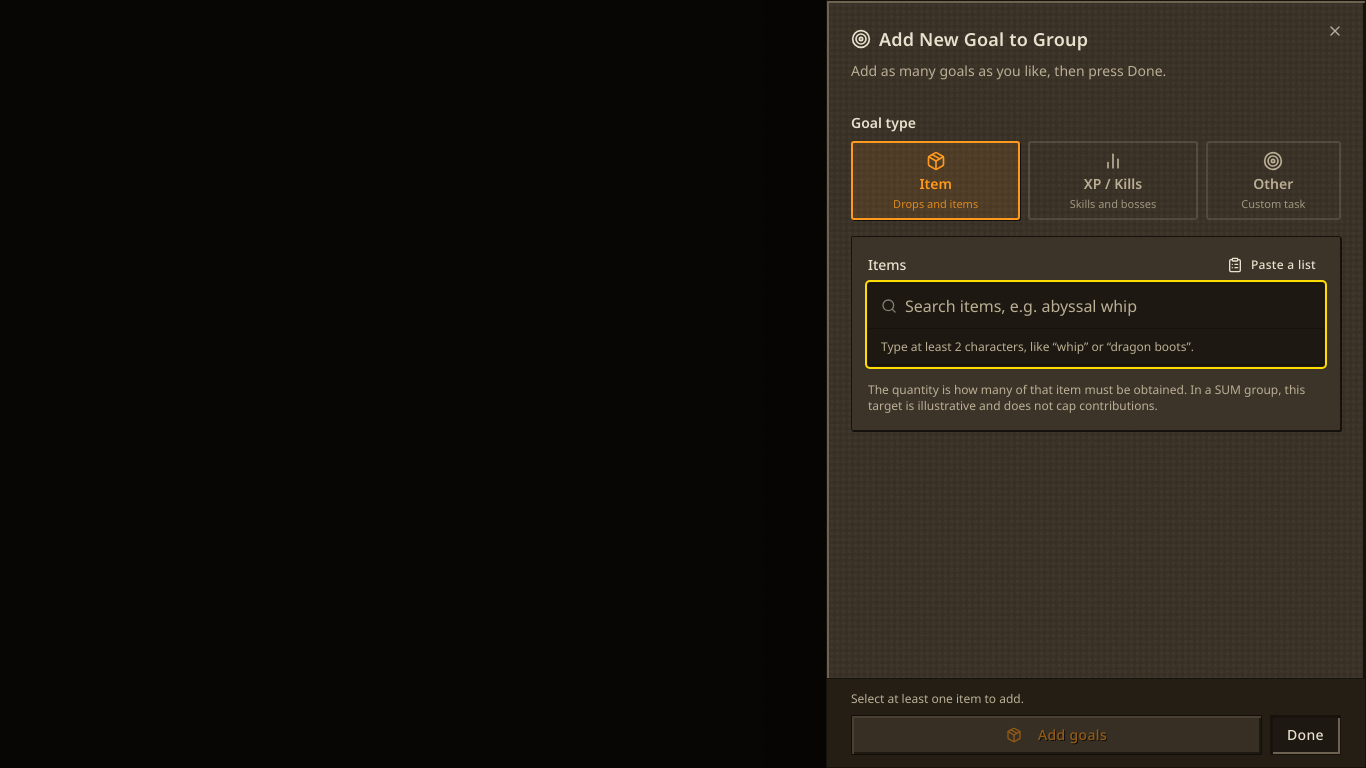
it: AddGoalDrawer › adding several goals in a row › keeps the drawer open and the type, clears the fields and lists what was added
This screenshot has width=1366, height=768.
Click the radio button labelled "Other": coordinates (1273, 181) [1206,141,1341,220]
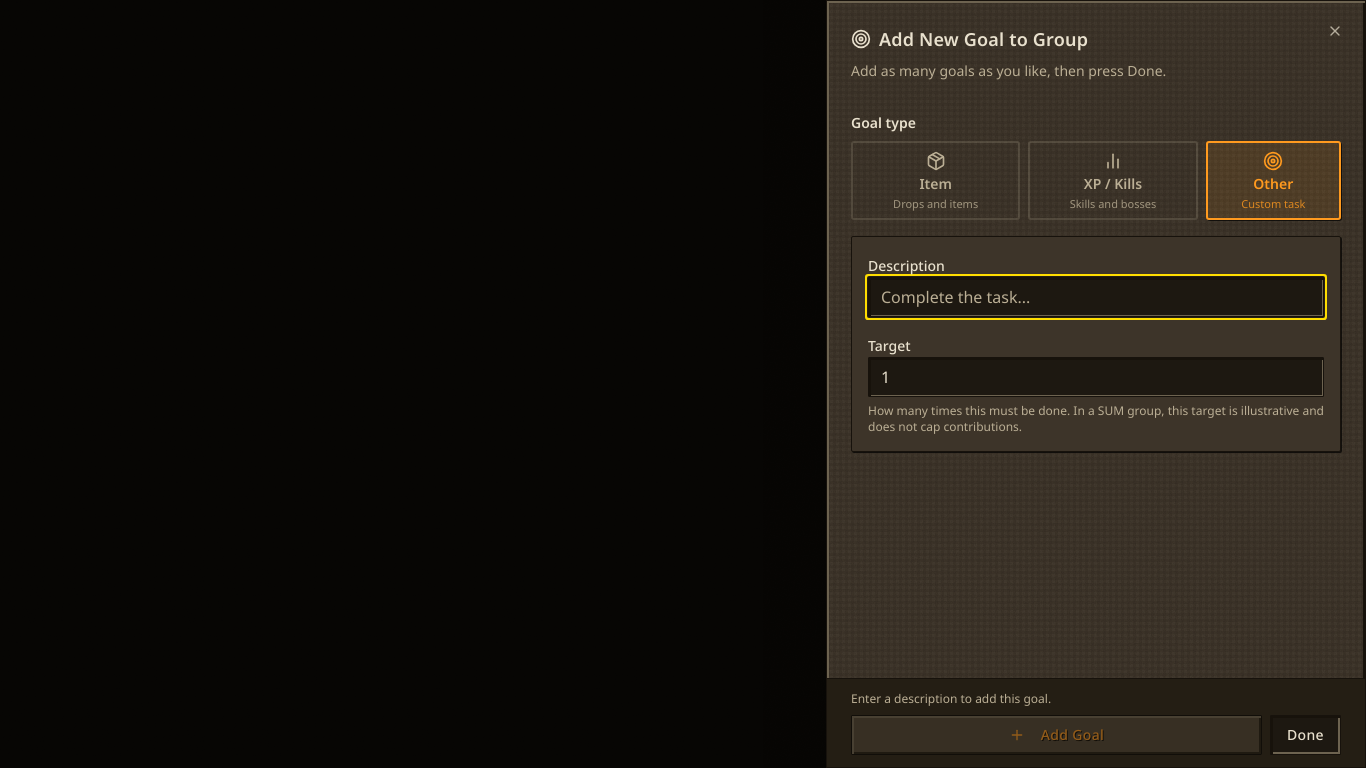
In the field labelled "Description": coordinates (1096, 297) [868,277,1324,317], type "Complete a raid"
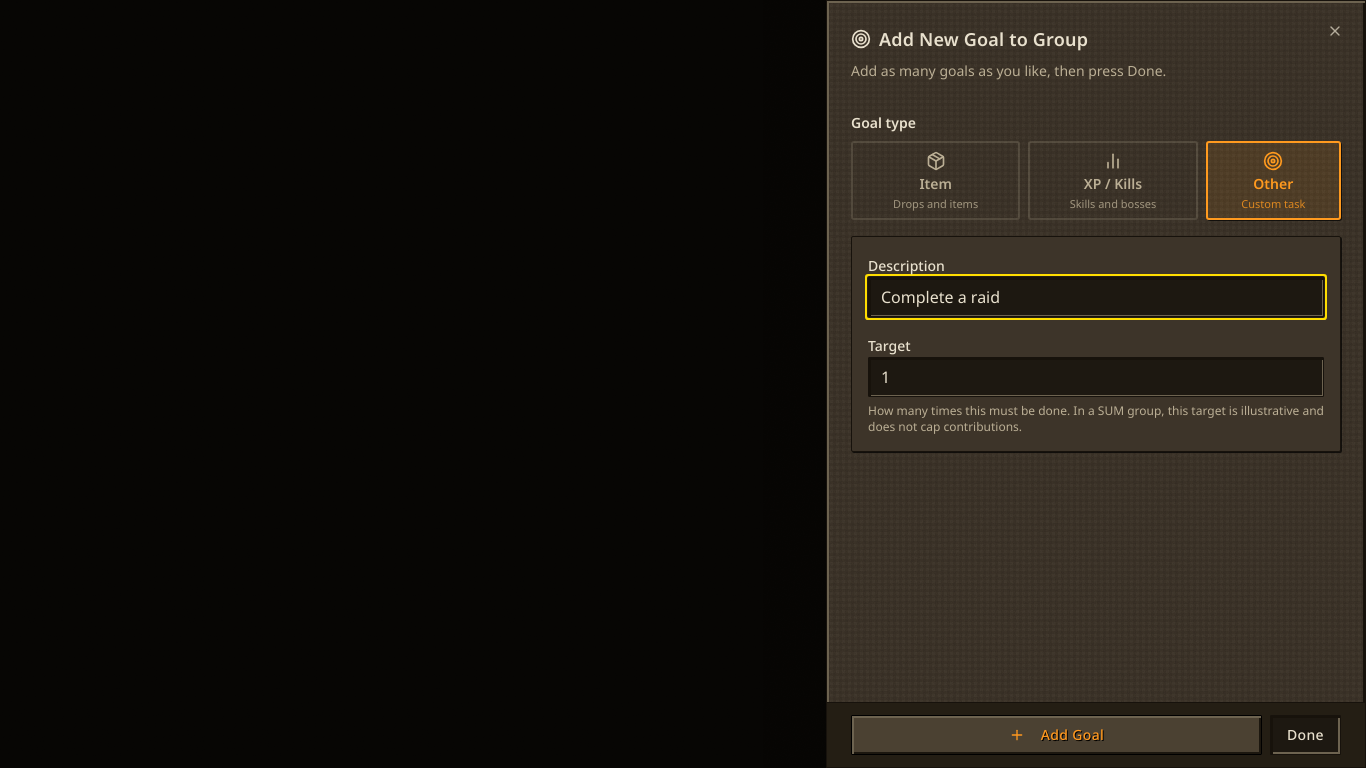
In the field labelled "Target": coordinates (1096, 377) [868,357,1324,397], type "2"
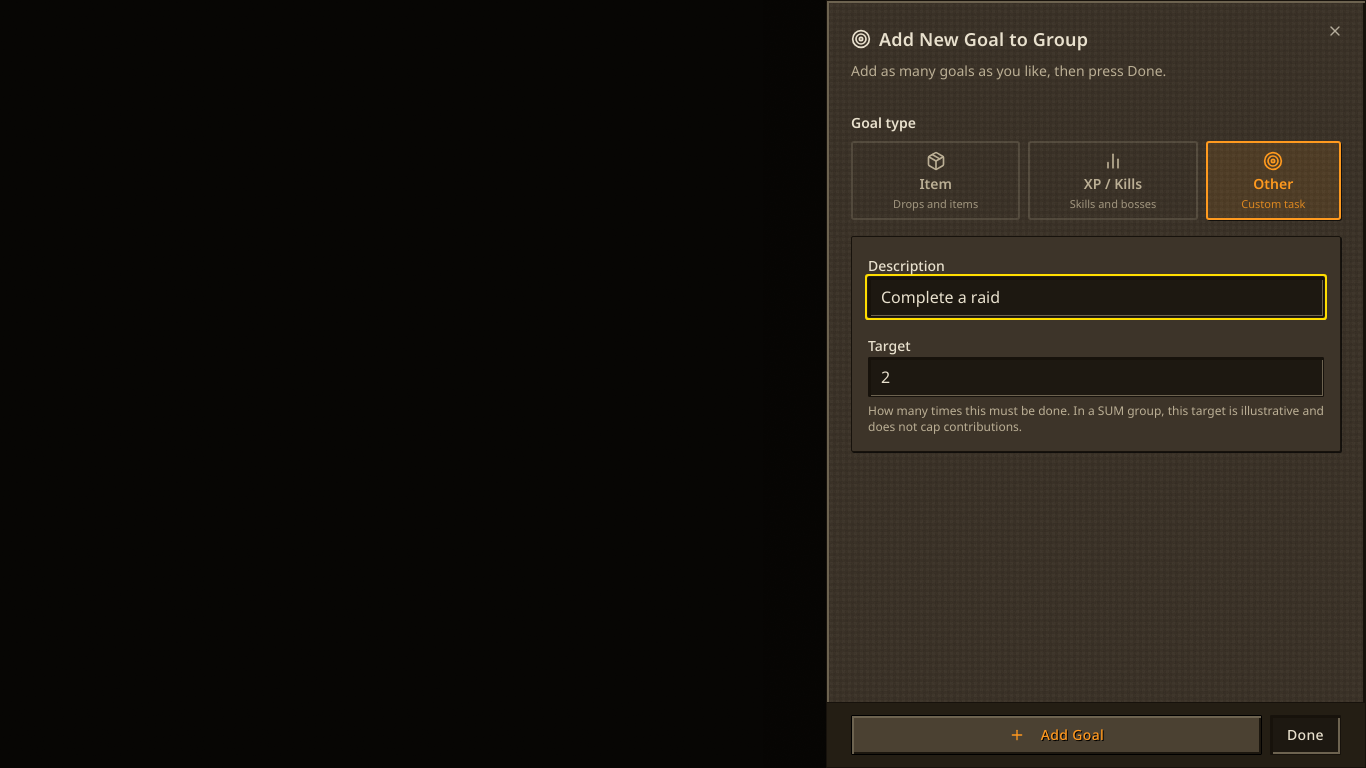
Click the button "Add Goal": coordinates (1056, 735) [851,715,1262,755]
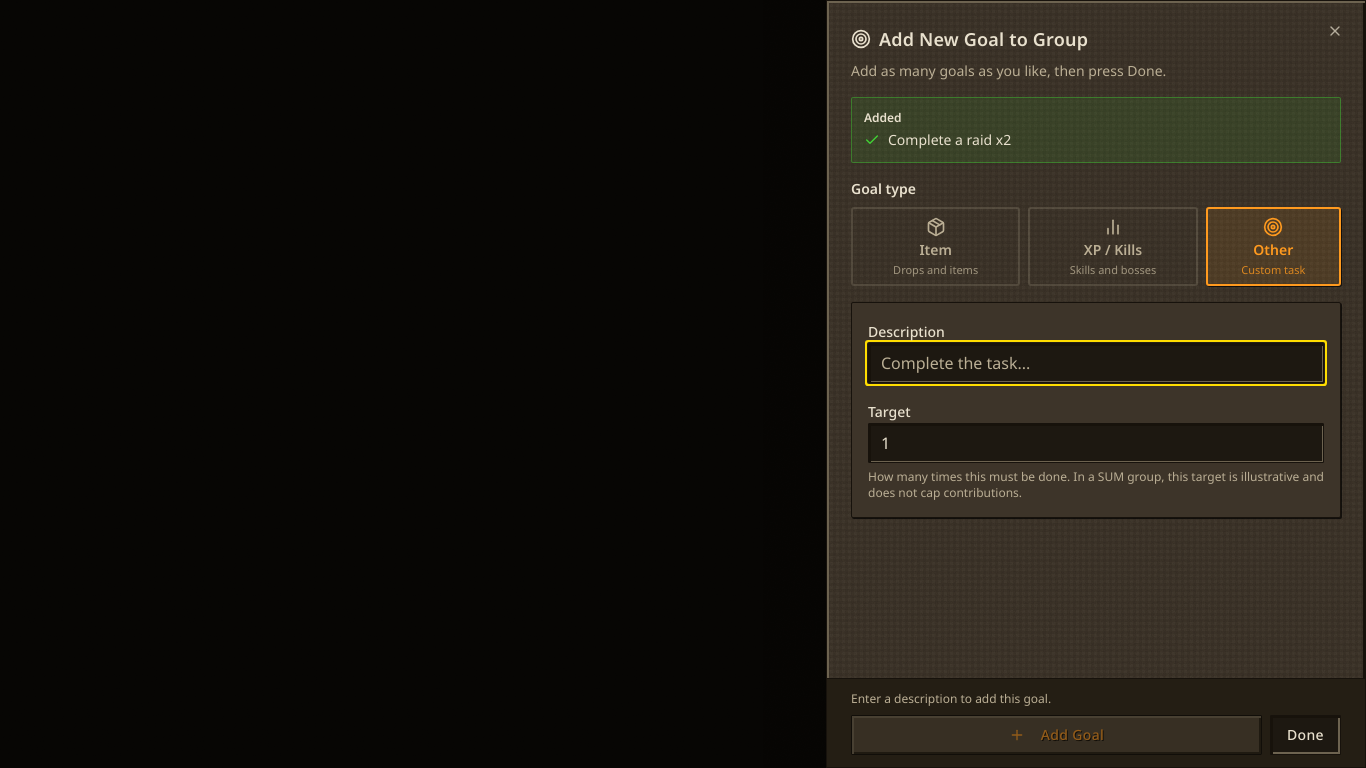
Expected: the radio button labelled "Other" is checked, [1206,207,1341,286]
Expected: the text "Complete a raid x2" is shown, [888,130,1011,150]
Expected: the field labelled "Description" is empty, [868,343,1324,383]
